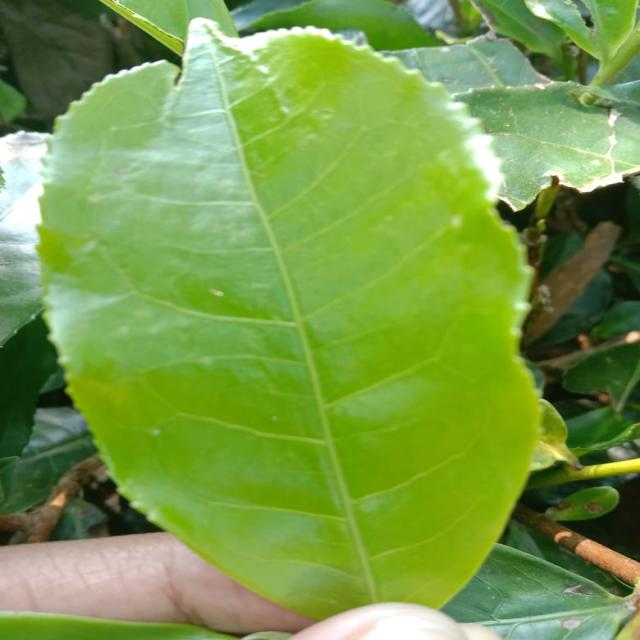Category B 2-4 days: (25, 10, 568, 627)
